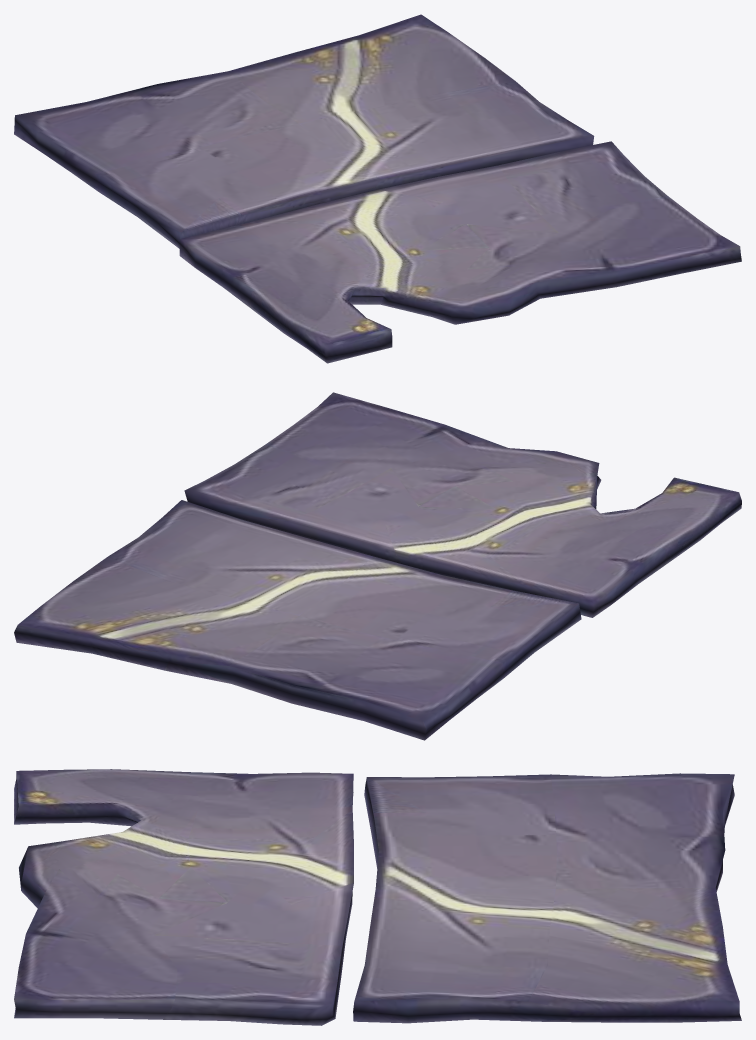
File: cp_veio_luz.glb
3 renders of one model, top to bottom at view 1: azimuth 30°, elevation 25°; view 2: azimuth 150°, elevation 25°; view 3: azimuth 270°, elevation 25°, orthographic. The views are drawn at different scales.
Parts seen in each view (by area): view 1: Mesh_0.001; view 2: Mesh_0.001; view 3: Mesh_0.001.
Boxes of the visible parts, box(x1,y1,x2,y2) form: Mesh_0.001: box(14, 14, 741, 363); Mesh_0.001: box(14, 392, 741, 740); Mesh_0.001: box(14, 769, 741, 1025).
Size of the model in its own units: 0.2305 by 0.0109 by 0.2979.
1 material, 1 textured.
